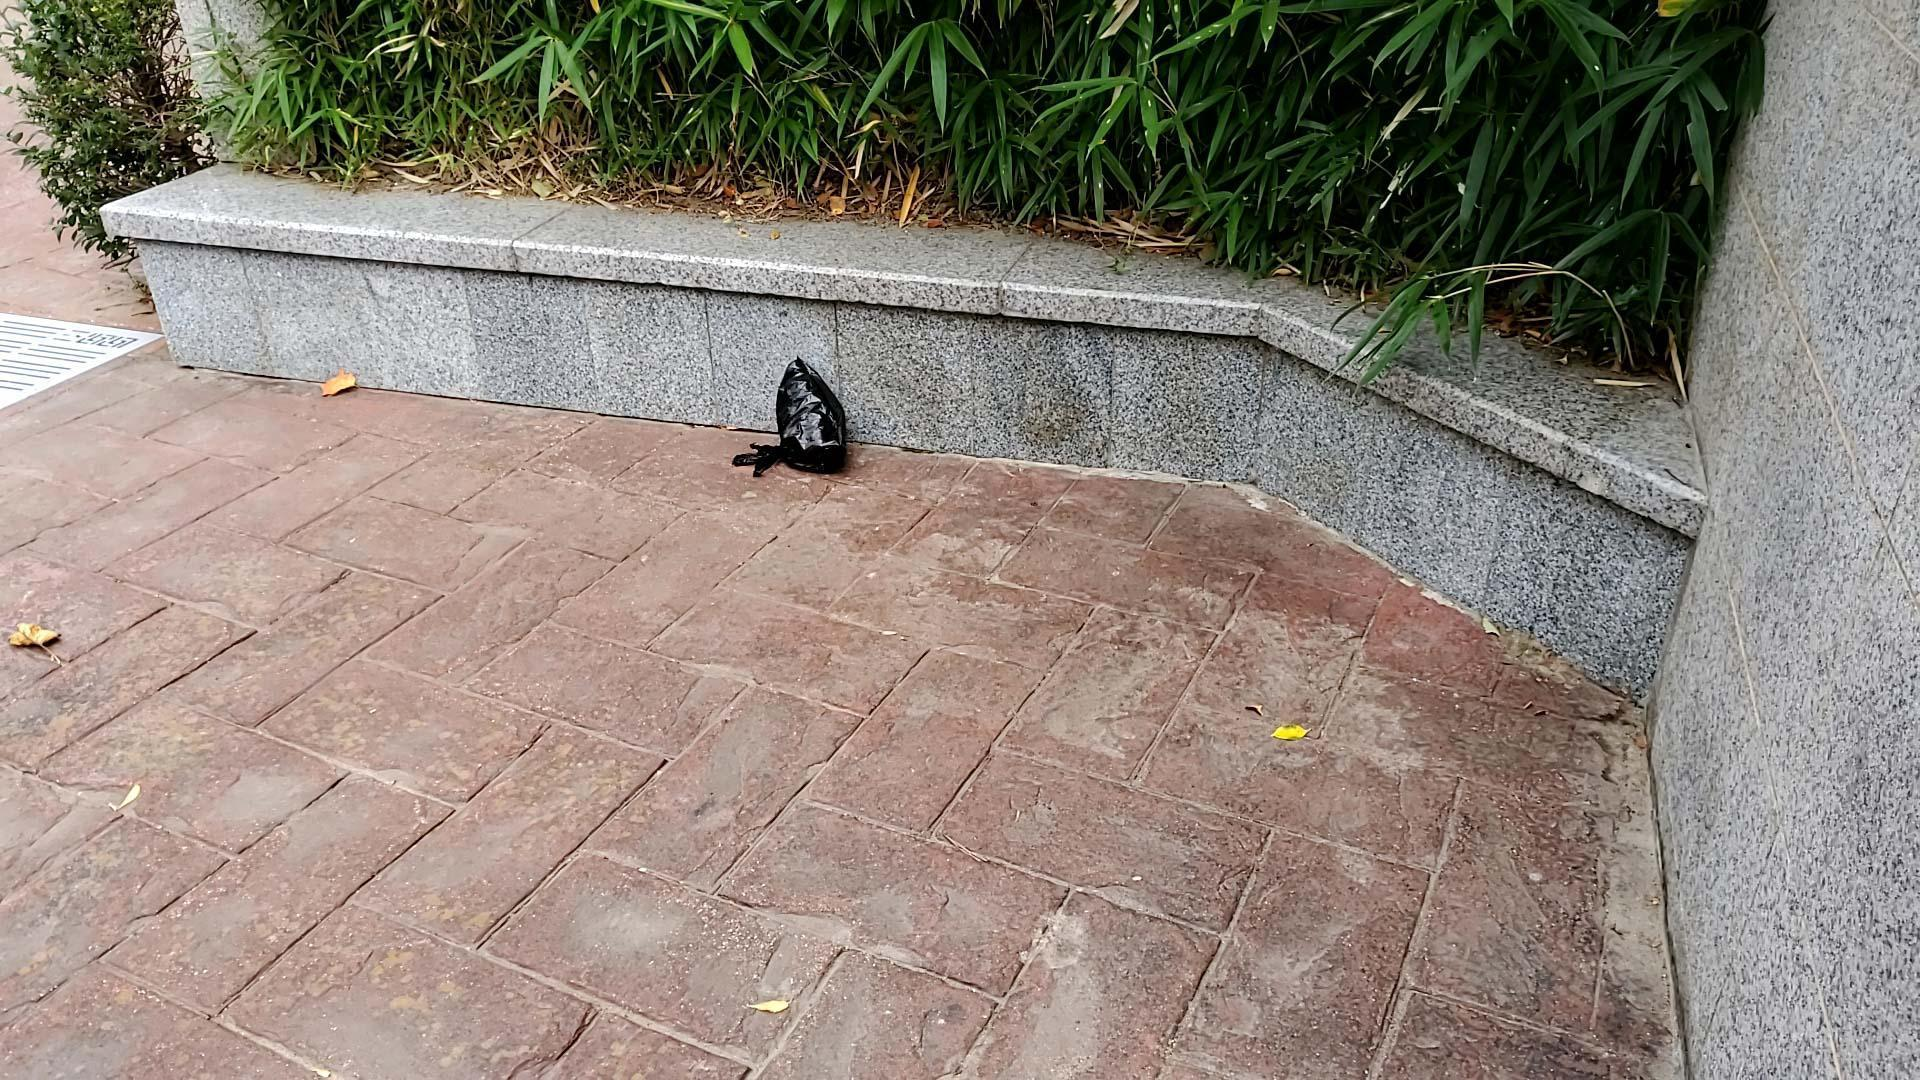white_bag: (721, 349, 857, 484)
